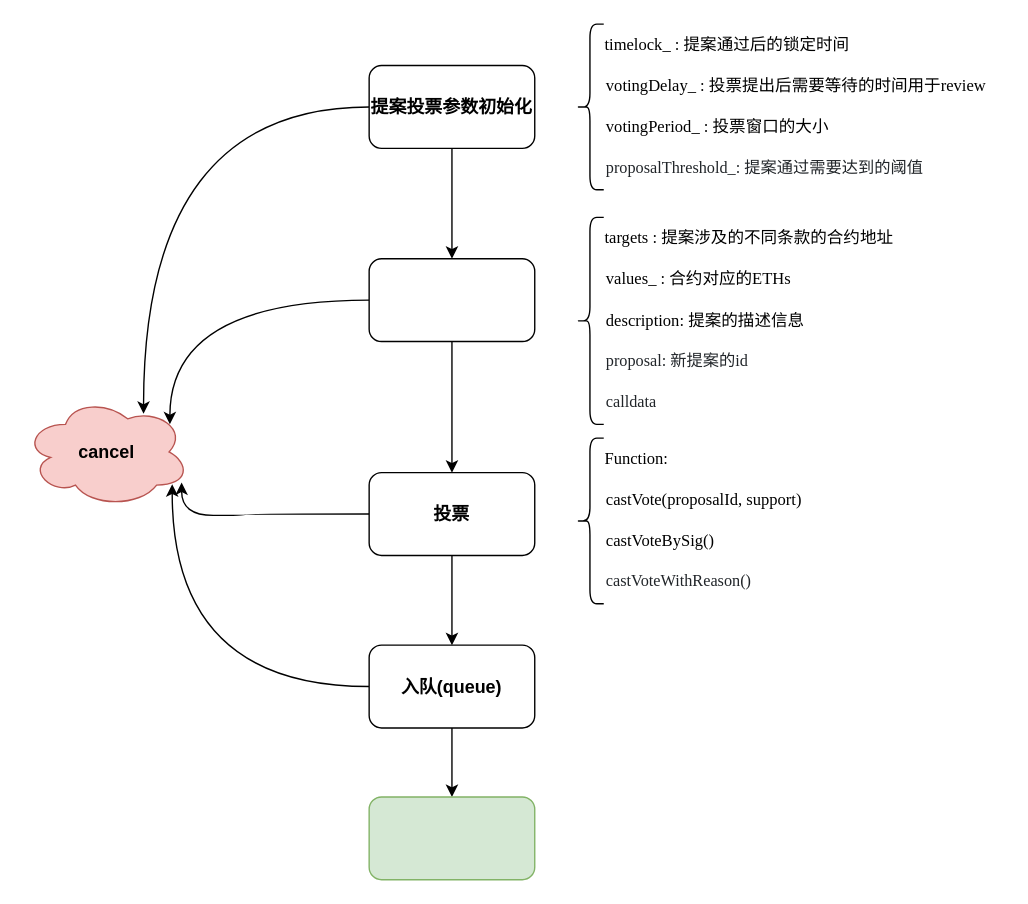
Some shapes in this 1028 by 904 pixel diagram are drawn without their labels. The centre of each missing label's shape, as x and y in pixels:
发布提案: the point at 451,299
执行(execute): the point at 451,838
